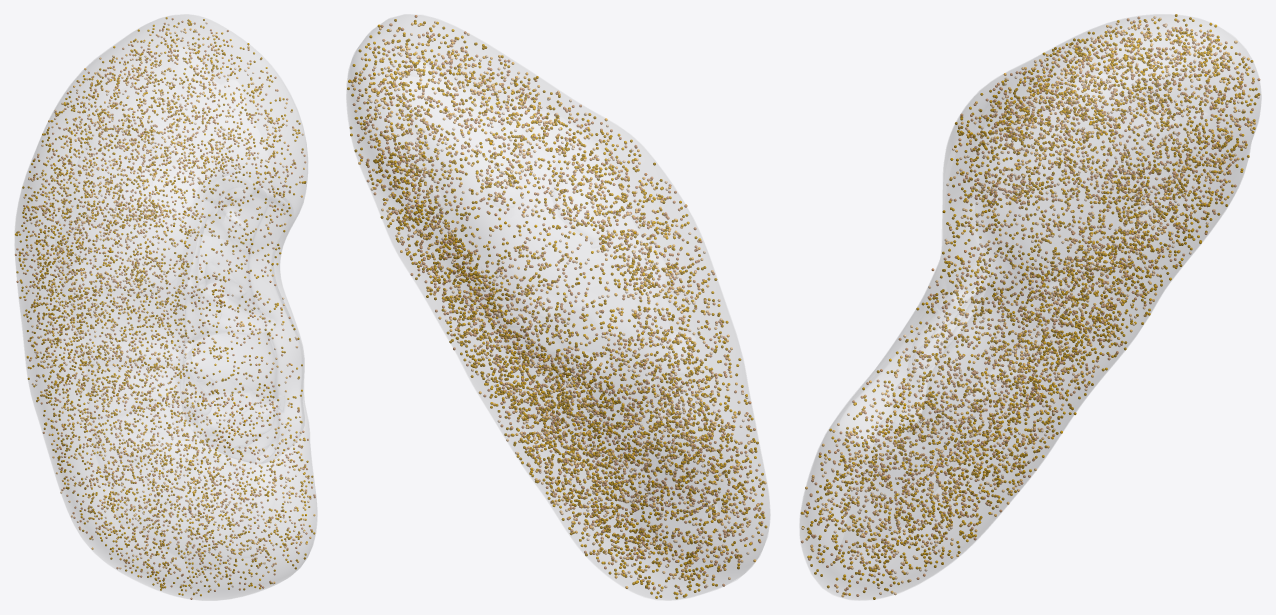
Rendered from 3d-vh-m-kidney-r-UBERON_0004539-all-as-azimuth-sphere-hra-pop.glb.
3 renders of one model, left to right at view 1: azimuth 30°, elevation 25°; view 2: azimuth 150°, elevation 25°; view 3: azimuth 270°, elevation 25°, orthographic. The views are drawn at different scales.
Visible parts, largest first — view 1: VH_M_kidney_capsule_R, VH_M_outer_cortex_of_kidney_R, VH_M_hilum_of_kidney_R, VH_M_renal_column_R, VH_M_renal_pyramid_f, VH_M_renal_pyramid_h, VH_M_renal_papilla_R_g; view 2: VH_M_kidney_capsule_R, VH_M_outer_cortex_of_kidney_R; view 3: VH_M_kidney_capsule_R, VH_M_outer_cortex_of_kidney_R, VH_M_hilum_of_kidney_R, VH_M_renal_pyramid_f, VH_M_renal_pyramid_h.
Boxes of the visible parts, x1,y1,x2,y2 form: VH_M_kidney_capsule_R: (14, 14, 316, 600); VH_M_outer_cortex_of_kidney_R: (17, 16, 311, 599); VH_M_hilum_of_kidney_R: (181, 174, 301, 462); VH_M_renal_column_R: (187, 179, 276, 462); VH_M_renal_pyramid_f: (186, 269, 275, 341); VH_M_renal_pyramid_h: (182, 383, 280, 453); VH_M_renal_papilla_R_g: (186, 383, 211, 414); VH_M_kidney_capsule_R: (346, 14, 770, 600); VH_M_outer_cortex_of_kidney_R: (347, 16, 769, 597); VH_M_kidney_capsule_R: (799, 14, 1261, 600); VH_M_outer_cortex_of_kidney_R: (800, 16, 1260, 599); VH_M_hilum_of_kidney_R: (838, 129, 990, 444); VH_M_renal_pyramid_f: (939, 286, 986, 340); VH_M_renal_pyramid_h: (891, 371, 931, 436).
Size of the model in its own units: 0.0655 by 0.1125 by 0.0764.
